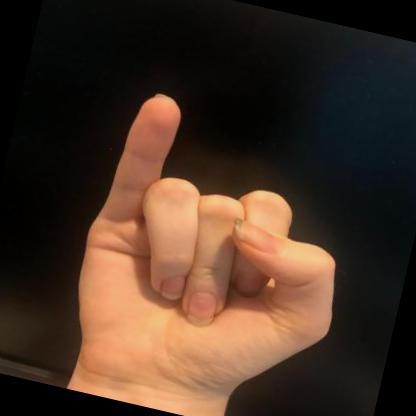I: (72, 93, 336, 416)
